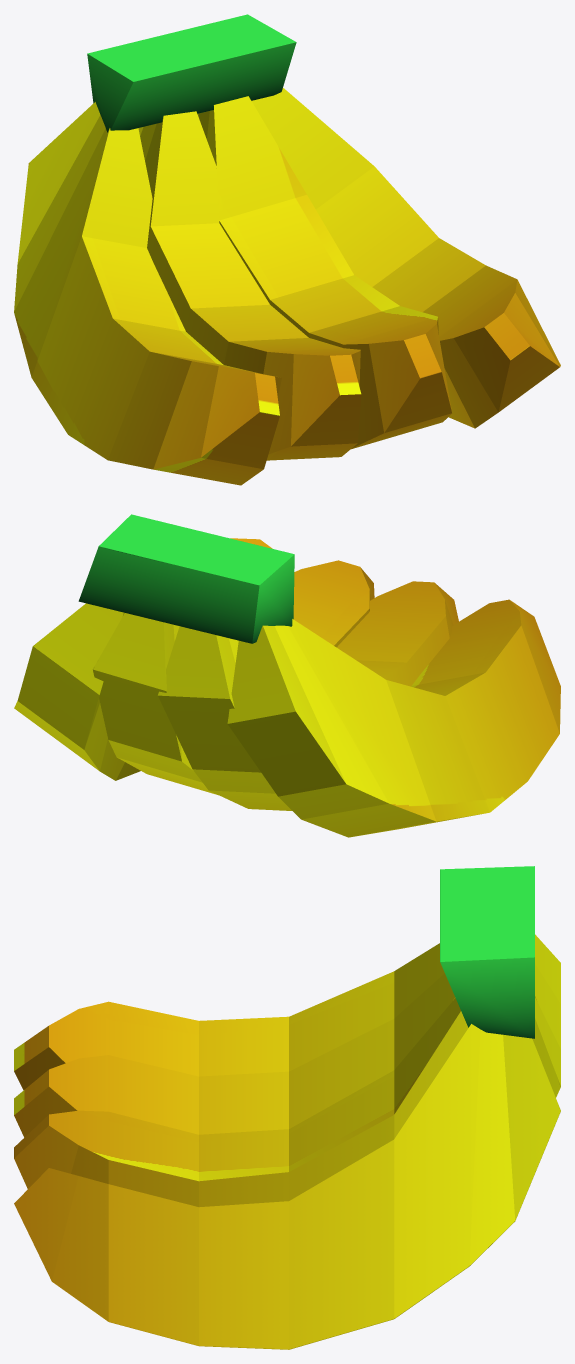
Rendered from Banana.glb.
3 views of the same model, one above another, from view 1: azimuth 30°, elevation 25°; view 2: azimuth 150°, elevation 25°; view 3: azimuth 270°, elevation 25° (orthographic). The views are drawn at different scales.
Parts seen in each view (by area): view 1: Cube, Cube.003, Cube.002, Cube.001, Cube.004; view 2: Cube, Cube.001, Cube.004, Cube.002, Cube.003; view 3: Cube.003, Cube.002, Cube.001, Cube, Cube.004.
Part boxes in pixels (<box>): Cube: <box>14,102,281,485</box>; Cube.003: <box>251,88,560,428</box>; Cube.002: <box>197,96,451,449</box>; Cube.001: <box>138,111,361,460</box>; Cube.004: <box>87,14,296,132</box>; Cube: <box>227,599,560,837</box>; Cube.001: <box>158,581,458,810</box>; Cube.004: <box>78,514,294,643</box>; Cube.002: <box>92,560,374,795</box>; Cube.003: <box>14,538,272,780</box>; Cube.003: <box>14,1024,560,1349</box>; Cube.002: <box>14,997,560,1207</box>; Cube.001: <box>14,964,560,1137</box>; Cube: <box>14,934,560,1090</box>; Cube.004: <box>440,866,534,1038</box>.
Bounding box in the file's own units: 2.61 × 1.83 × 2.5.
Materials: 2 (2 with a texture image).
